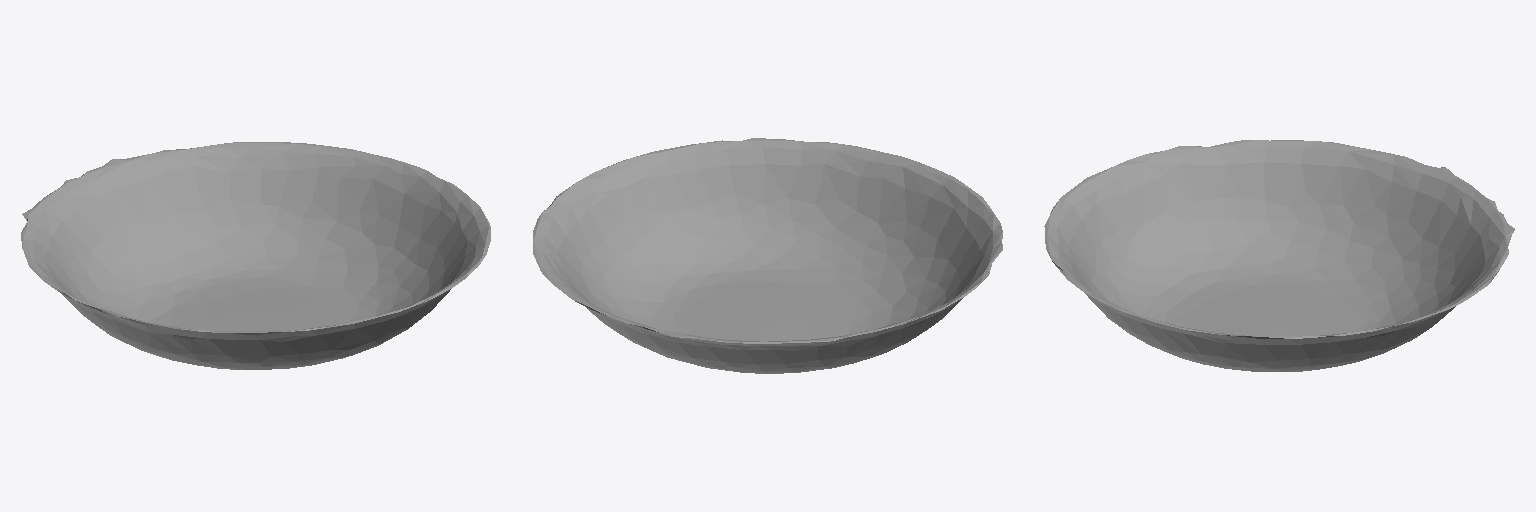
robot.urdf — deep_plate:
<?xml version="1.0"?>

<robot name="deep_plate">
  <link name="deep_plate_frame">
    <visual>
      <geometry>
        <mesh filename="package://kitchen_context/models/deep_plate/meshes/deep_plate.dae"/>
      </geometry>
    </visual>
  </link>
</robot>

--- Render facts (derived) ---
Views: 3 orthographic renders of the robot side by side, from view 1: azimuth 30°, elevation 25°; view 2: azimuth 150°, elevation 25°; view 3: azimuth 270°, elevation 25°.
Robot: deep_plate — 1 links, 0 joints (none); root link deep_plate_frame; default pose: every joint at zero.
Links seen in each view (by area): view 1: deep_plate_frame; view 2: deep_plate_frame; view 3: deep_plate_frame.
Boxes of the visible links, bbox=[...] form: deep_plate_frame: bbox=[21, 142, 490, 369]; deep_plate_frame: bbox=[533, 138, 1002, 373]; deep_plate_frame: bbox=[1044, 140, 1514, 371].
Size in the robot's own frame: 0.24 by 0.24 by 0.05 metres.
1 mesh visuals loaded from 1 distinct referenced files (1 Collada DAE).